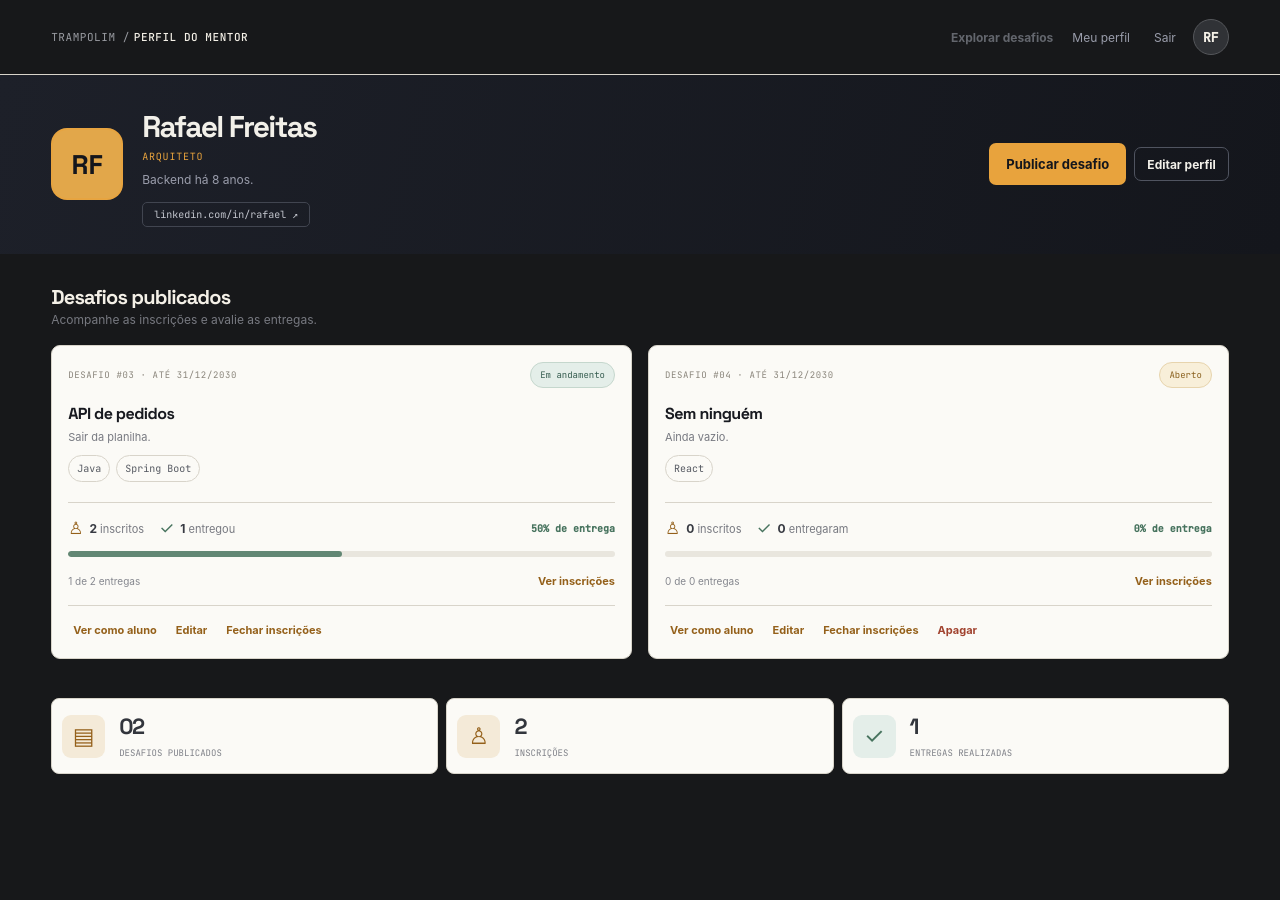
Scenario: Perfil do mentor › esconde a lista ao clicar de novo e avisa quando não há inscritos
Expected: the heading "Sem ninguém" is shown, [665,403,762,424]
Click the button "Ver inscrições" below "Aberto" at point(1171, 581), box [1130,569,1212,593]
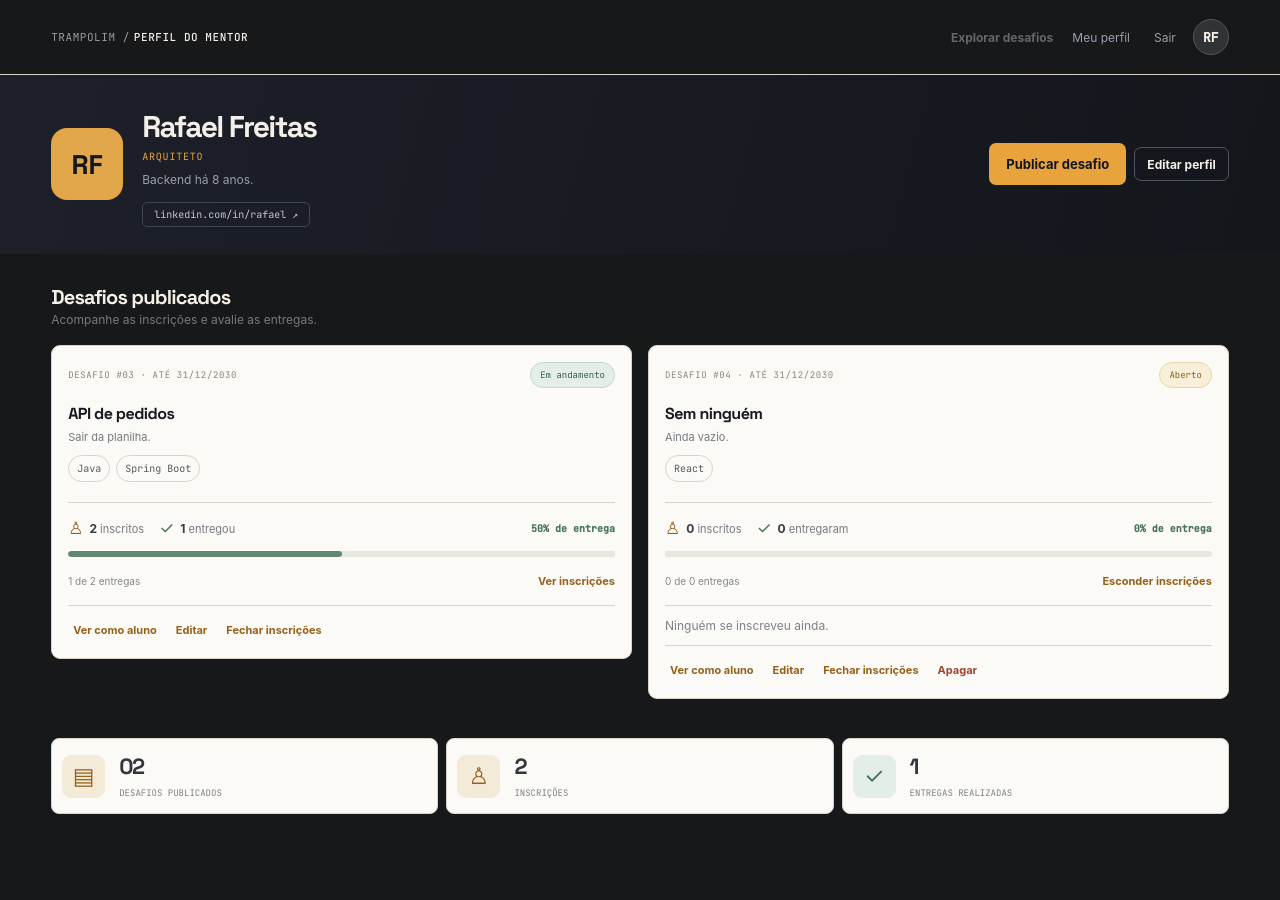
Expected: the list item "Ninguém se inscreveu ainda." is shown, [665,618,829,633]
Click the button "Esconder inscrições" at point(1155, 581), box [1097,569,1212,593]
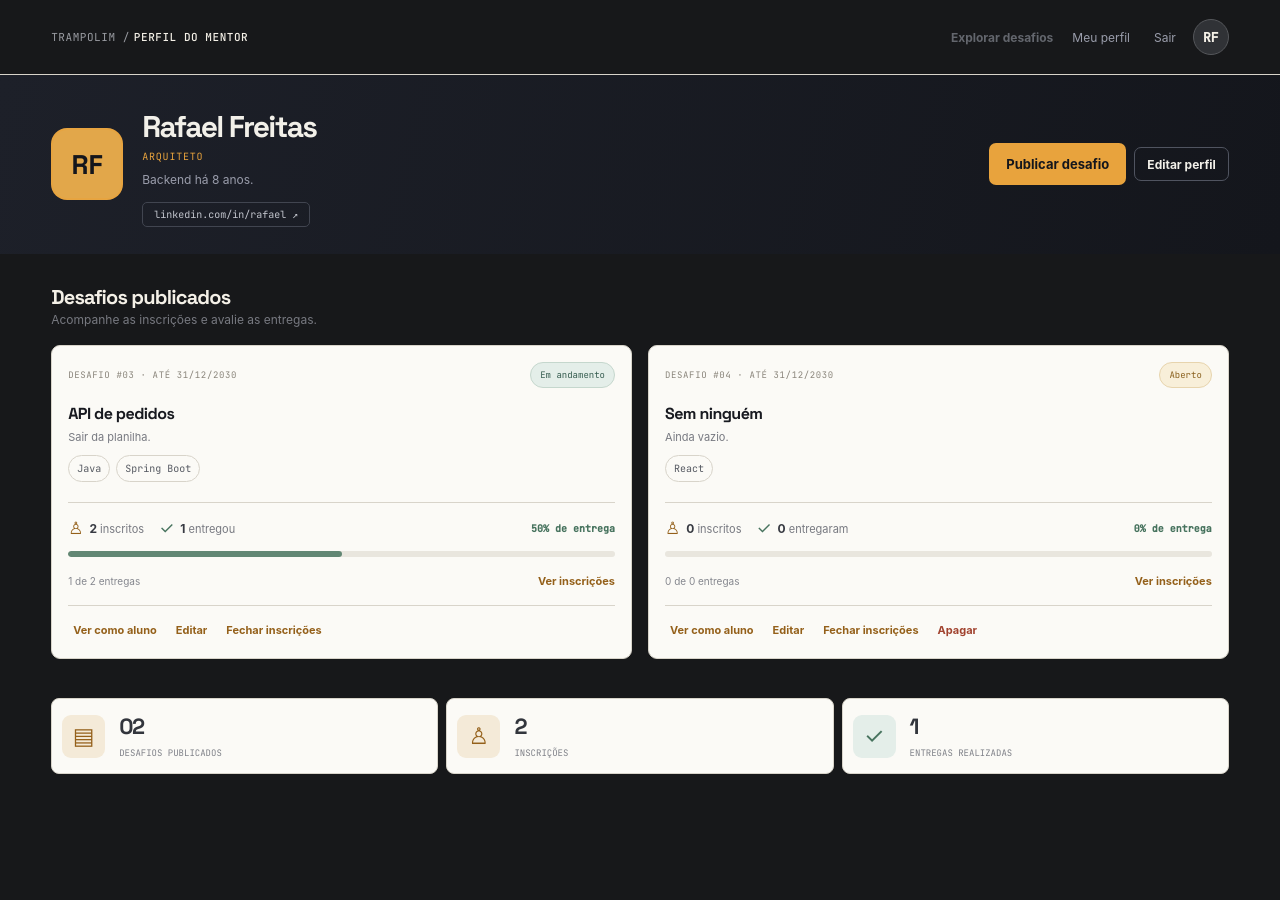
Expected: the list item "Ninguém se inscreveu ainda." is gone
